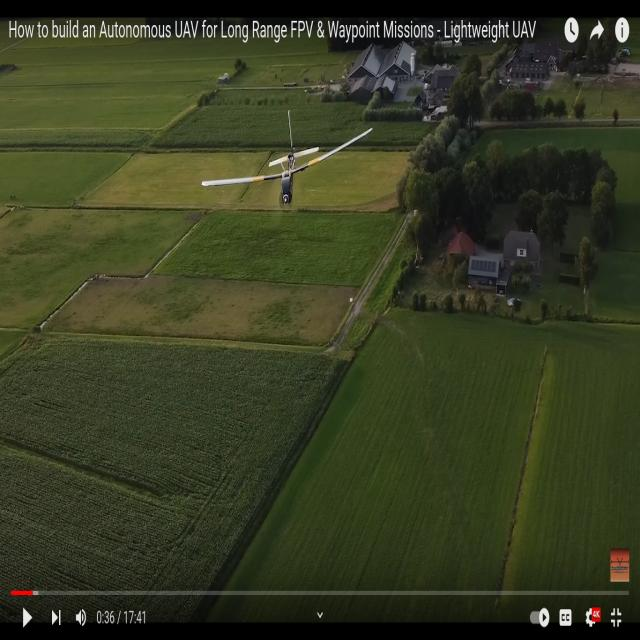drones: (194, 105, 379, 228)
